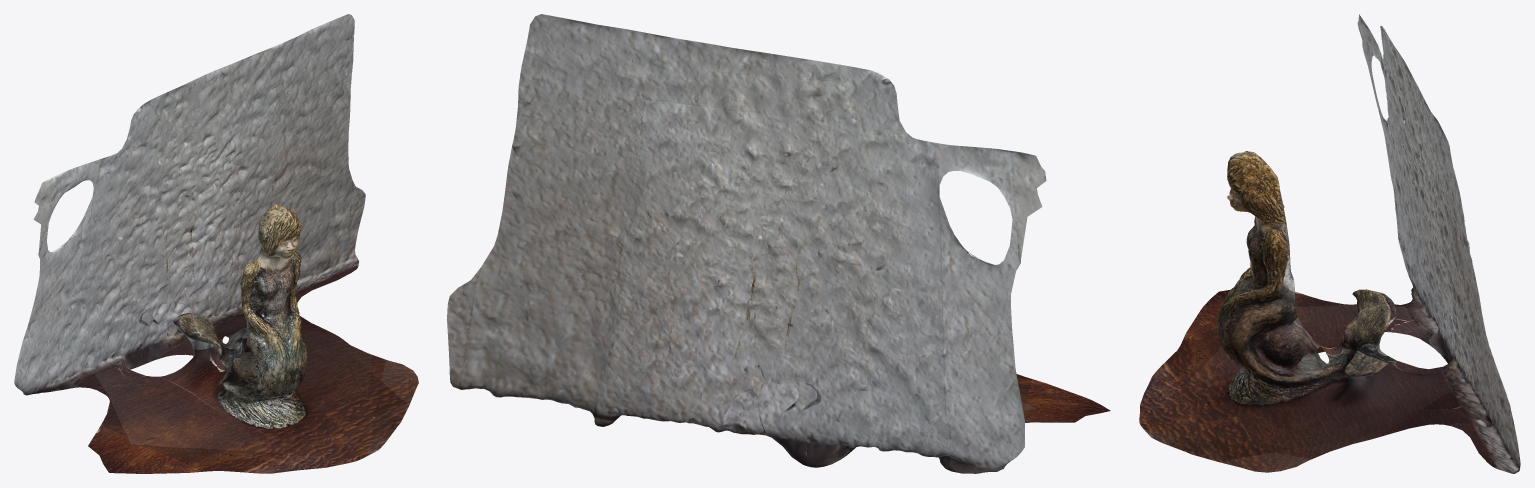
The model's file is meermin2.obj.
3 renders of one model, left to right at view 1: azimuth 30°, elevation 25°; view 2: azimuth 150°, elevation 25°; view 3: azimuth 270°, elevation 25°, orthographic. The views are drawn at different scales.
Parts seen in each view (by area): view 1: meermin2; view 2: meermin2; view 3: meermin2.
Part boxes in pixels (box(x1,y1,x2,y2)): meermin2: box(14, 14, 418, 473); meermin2: box(447, 14, 1110, 473); meermin2: box(1139, 14, 1520, 473).
Bounding box in the file's own units: 30.54 × 22.94 × 22.47.
Materials: 2 (1 with a texture image).
